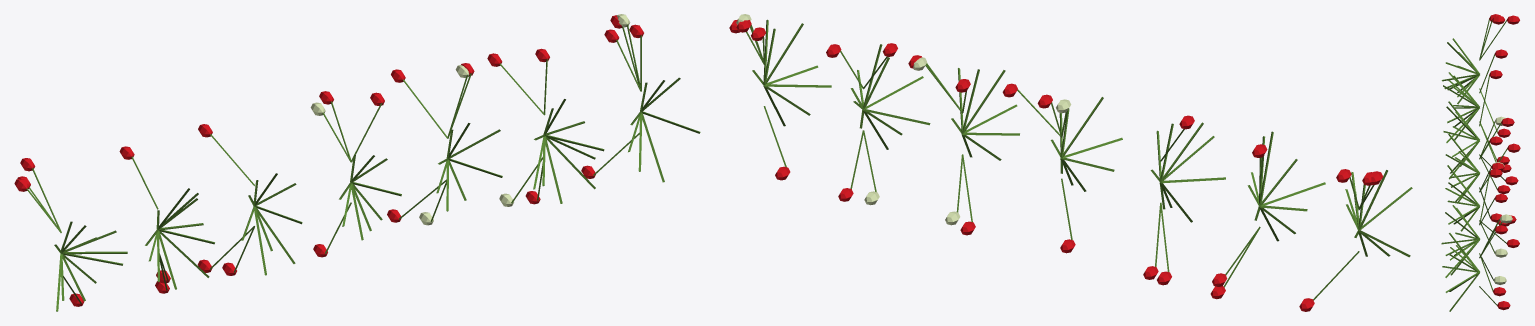
Rendered from r29c3_rest.obj.
3 views of the same model, side by side, from view 1: azimuth 30°, elevation 25°; view 2: azimuth 150°, elevation 25°; view 3: azimuth 270°, elevation 25° (orthographic). The views are drawn at different scales.
Visible parts, largest first — view 1: r29c3_rest; view 2: r29c3_rest; view 3: r29c3_rest.
Boxes of the visible parts, x1=… form: r29c3_rest: x1=14, y1=14, x2=700, y2=311; r29c3_rest: x1=729, y1=14, x2=1412, y2=311; r29c3_rest: x1=1441, y1=14, x2=1520, y2=311.
Size of the model in its own units: 1.68 by 0.4038 by 0.2549.
